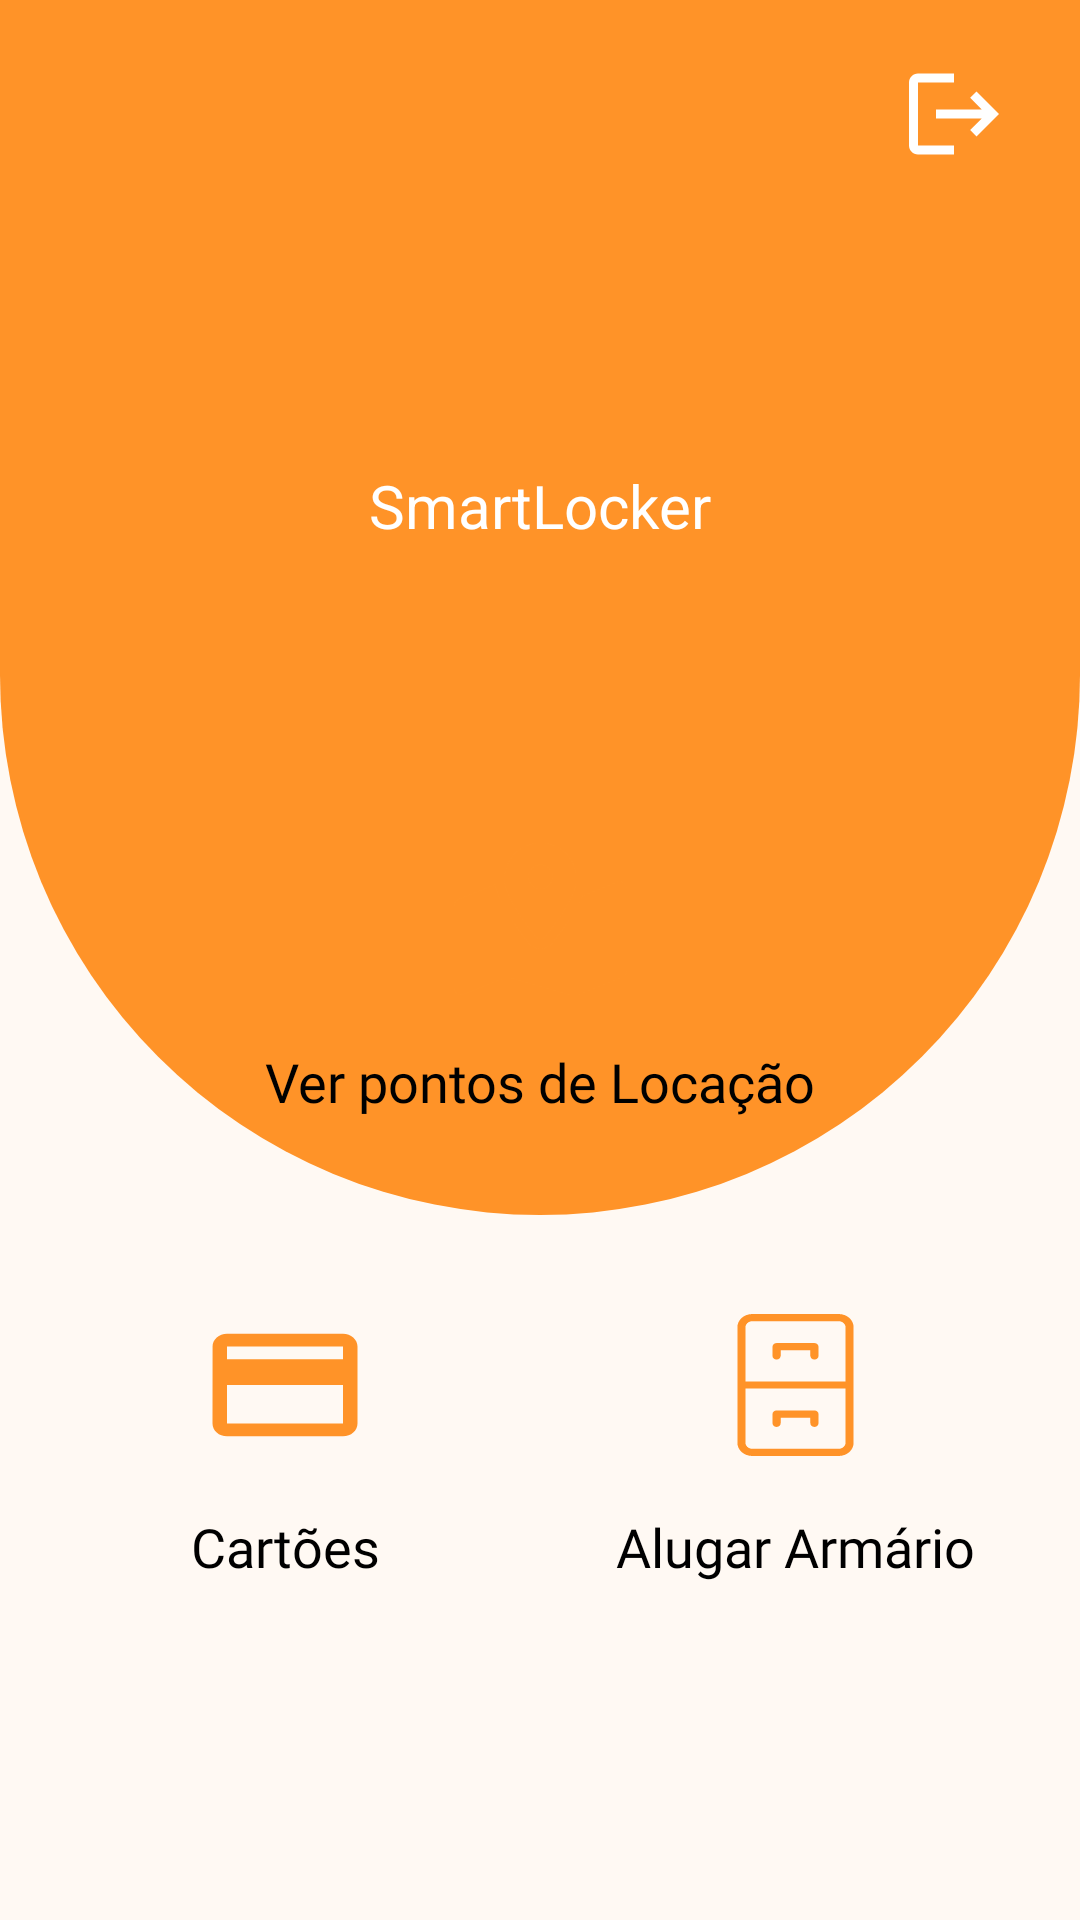

Icon click points for this 1080px×1920px phone screenshot, format (x,y):
cabinet: (795,1385)
card: (285,1385)
